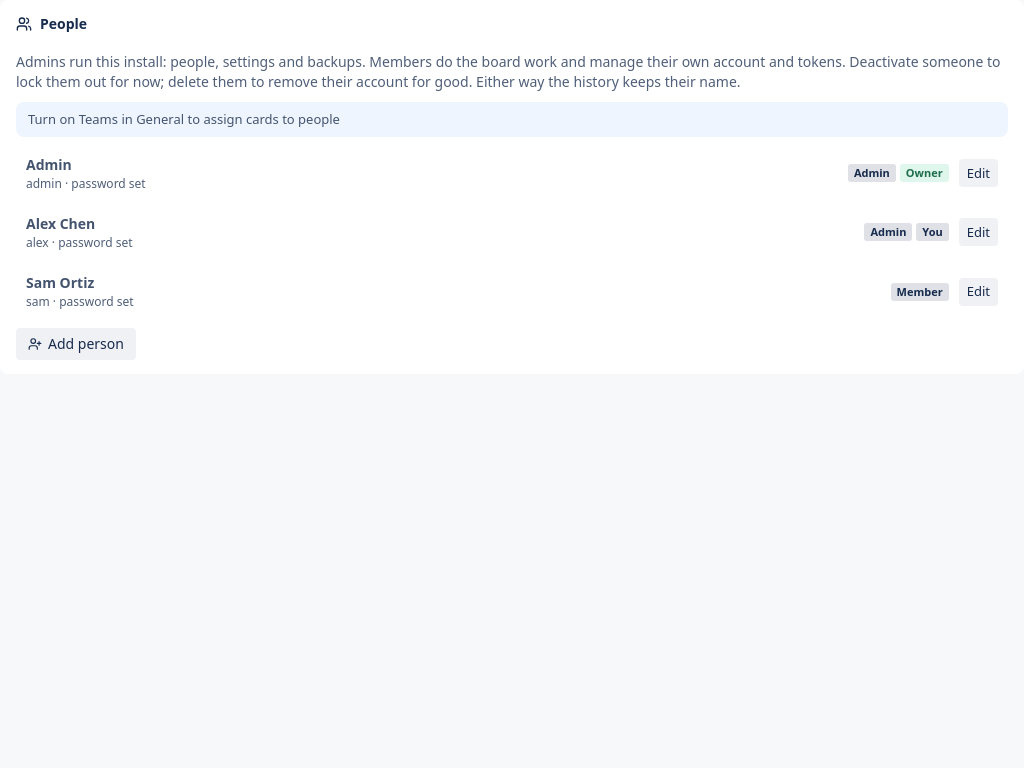
it: PeopleSection › offers no deactivate, reset or role change where they could only fail: the owner, yourself
This screenshot has width=1024, height=768.
Click the button "Edit" next to "Owner" at (978, 173), box x1=959 y1=159 x2=998 y2=187
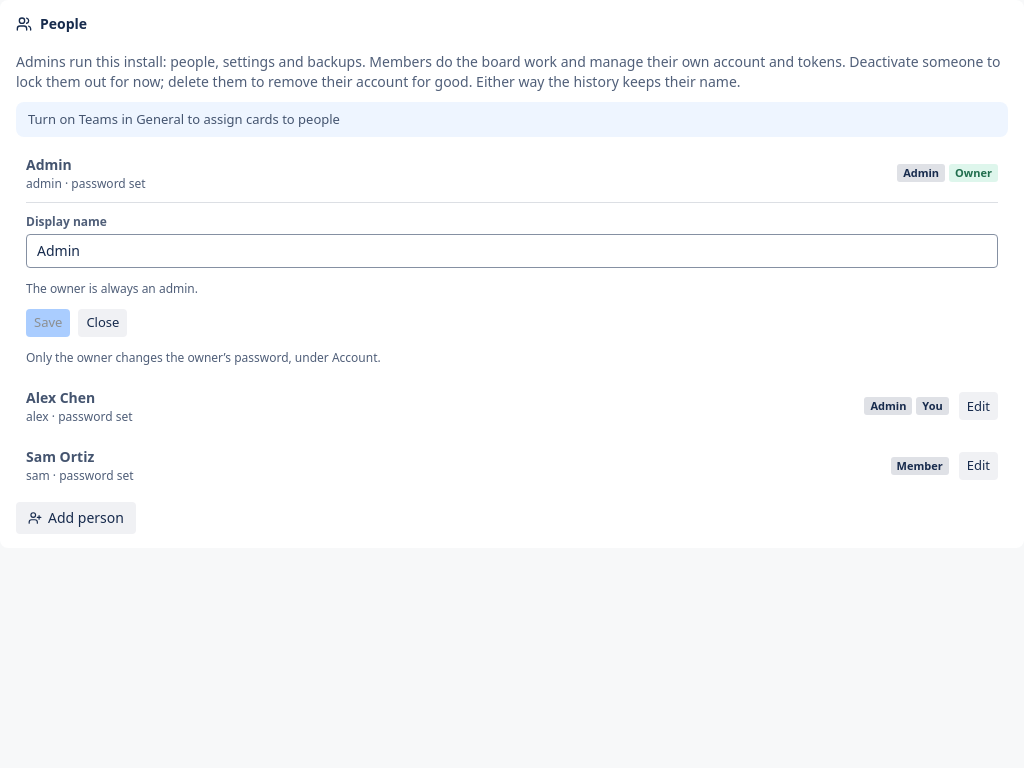
Expected: the text "The owner is always an admin." is shown, x1=26 y1=280 x2=198 y2=296
Click the button "Close" at (103, 323), box x1=78 y1=309 x2=127 y2=337
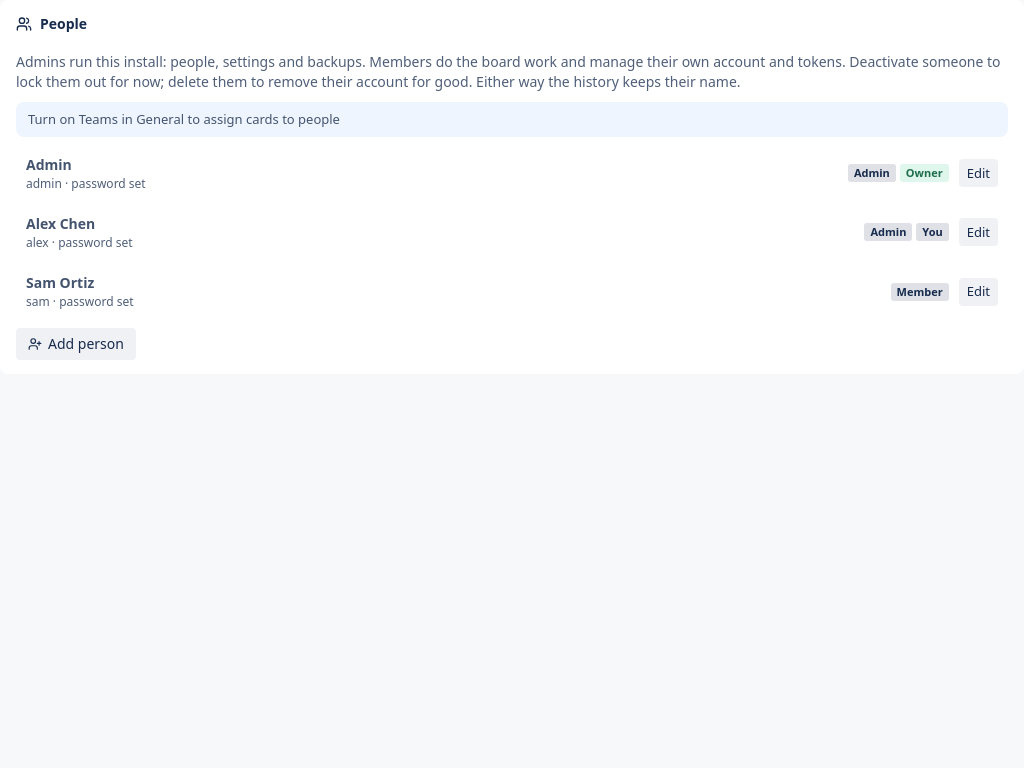
Click the button "Edit" next to "You" at (978, 232), box x1=959 y1=218 x2=998 y2=246
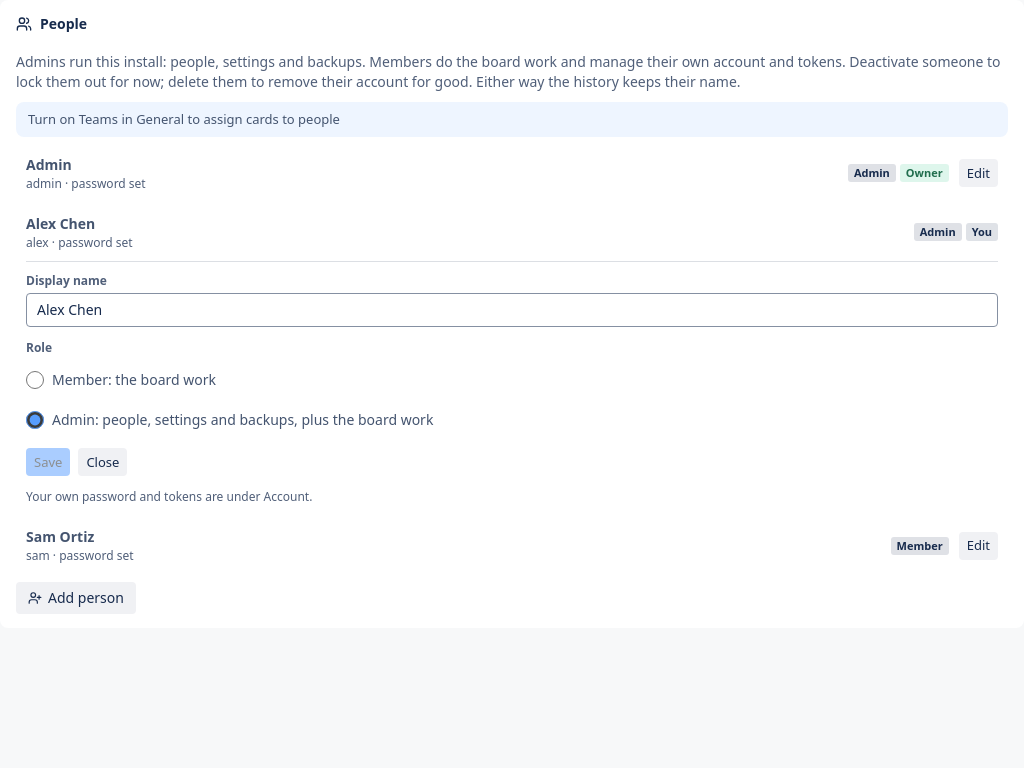
Expected: the text "Your own password and tokens are under Account." is shown, x1=26 y1=488 x2=312 y2=505
